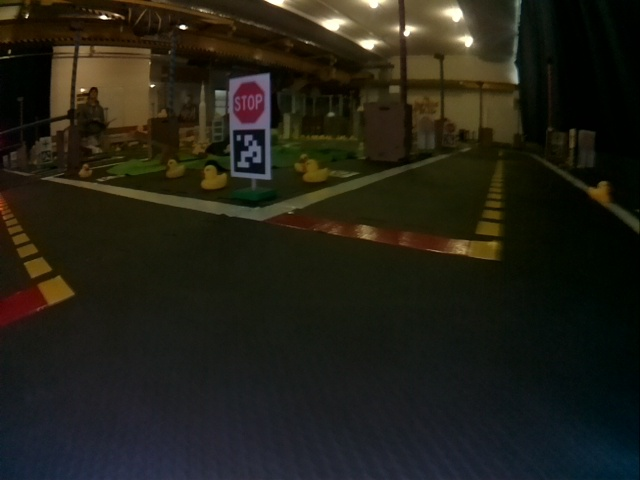Duckie: (202, 166, 226, 189), (305, 163, 327, 180), (590, 182, 609, 201), (166, 160, 184, 177), (296, 154, 308, 171), (79, 164, 92, 178)
QR code: (233, 130, 265, 174), (330, 170, 360, 179)
Stop sign: (232, 82, 264, 122)
